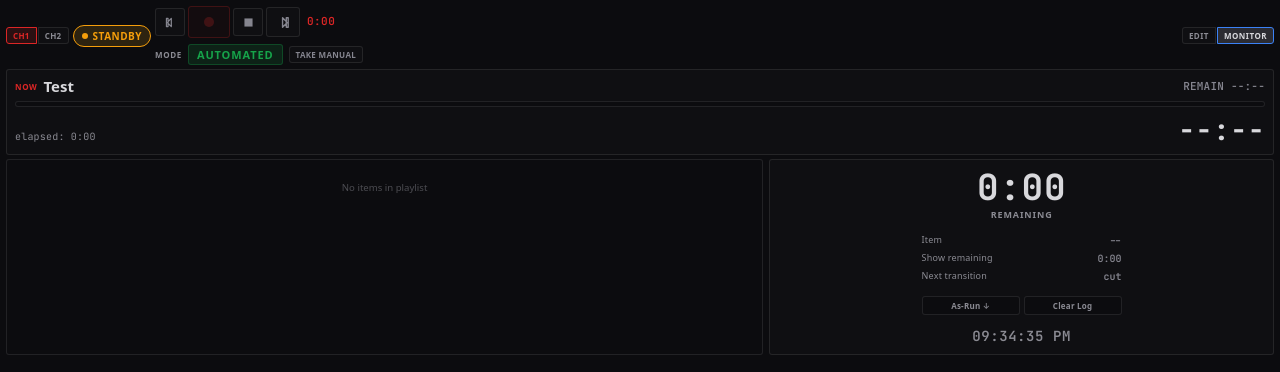
Test: PlayoutPanel › shows ON AIR state pill when on_air in edit mode
This screenshot has width=1280, height=372.
Note: Force edit mode (auto-switches to monitor when on-air)
What coordinates should you click on to do the following:
click the button with class "mode-btn-toggle" showing "EDIT"
I would click on:
 (1199, 36)
Its box is [1182,27,1216,44].
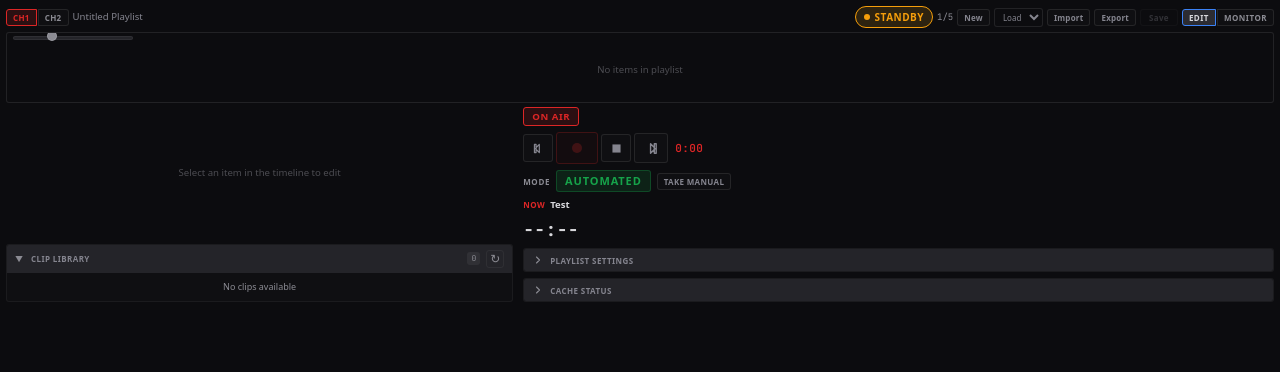
Result: the text "ON AIR" is shown at [523,107,579,126]
Result: the text with class "on-air" reads "ON AIR" at [532,110,570,123]
